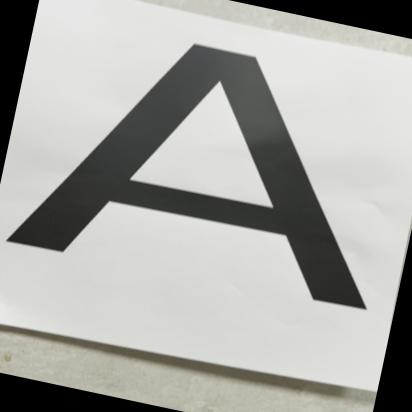seat: (4, 11, 412, 386)
